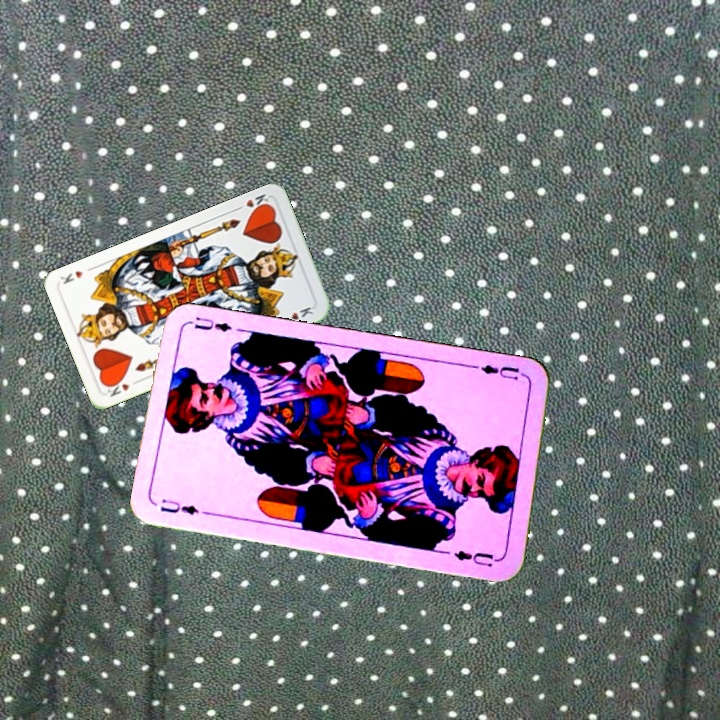EU: (477, 360, 529, 382), (156, 495, 201, 518)
HK: (232, 190, 273, 215), (103, 375, 142, 399)
